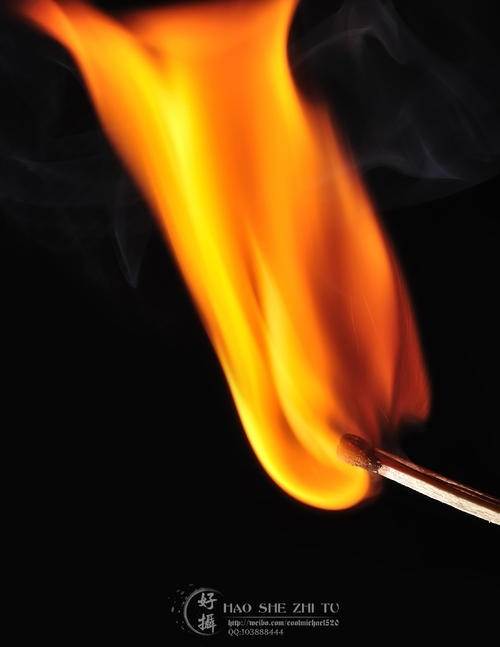fire: (35, 0, 432, 504)
